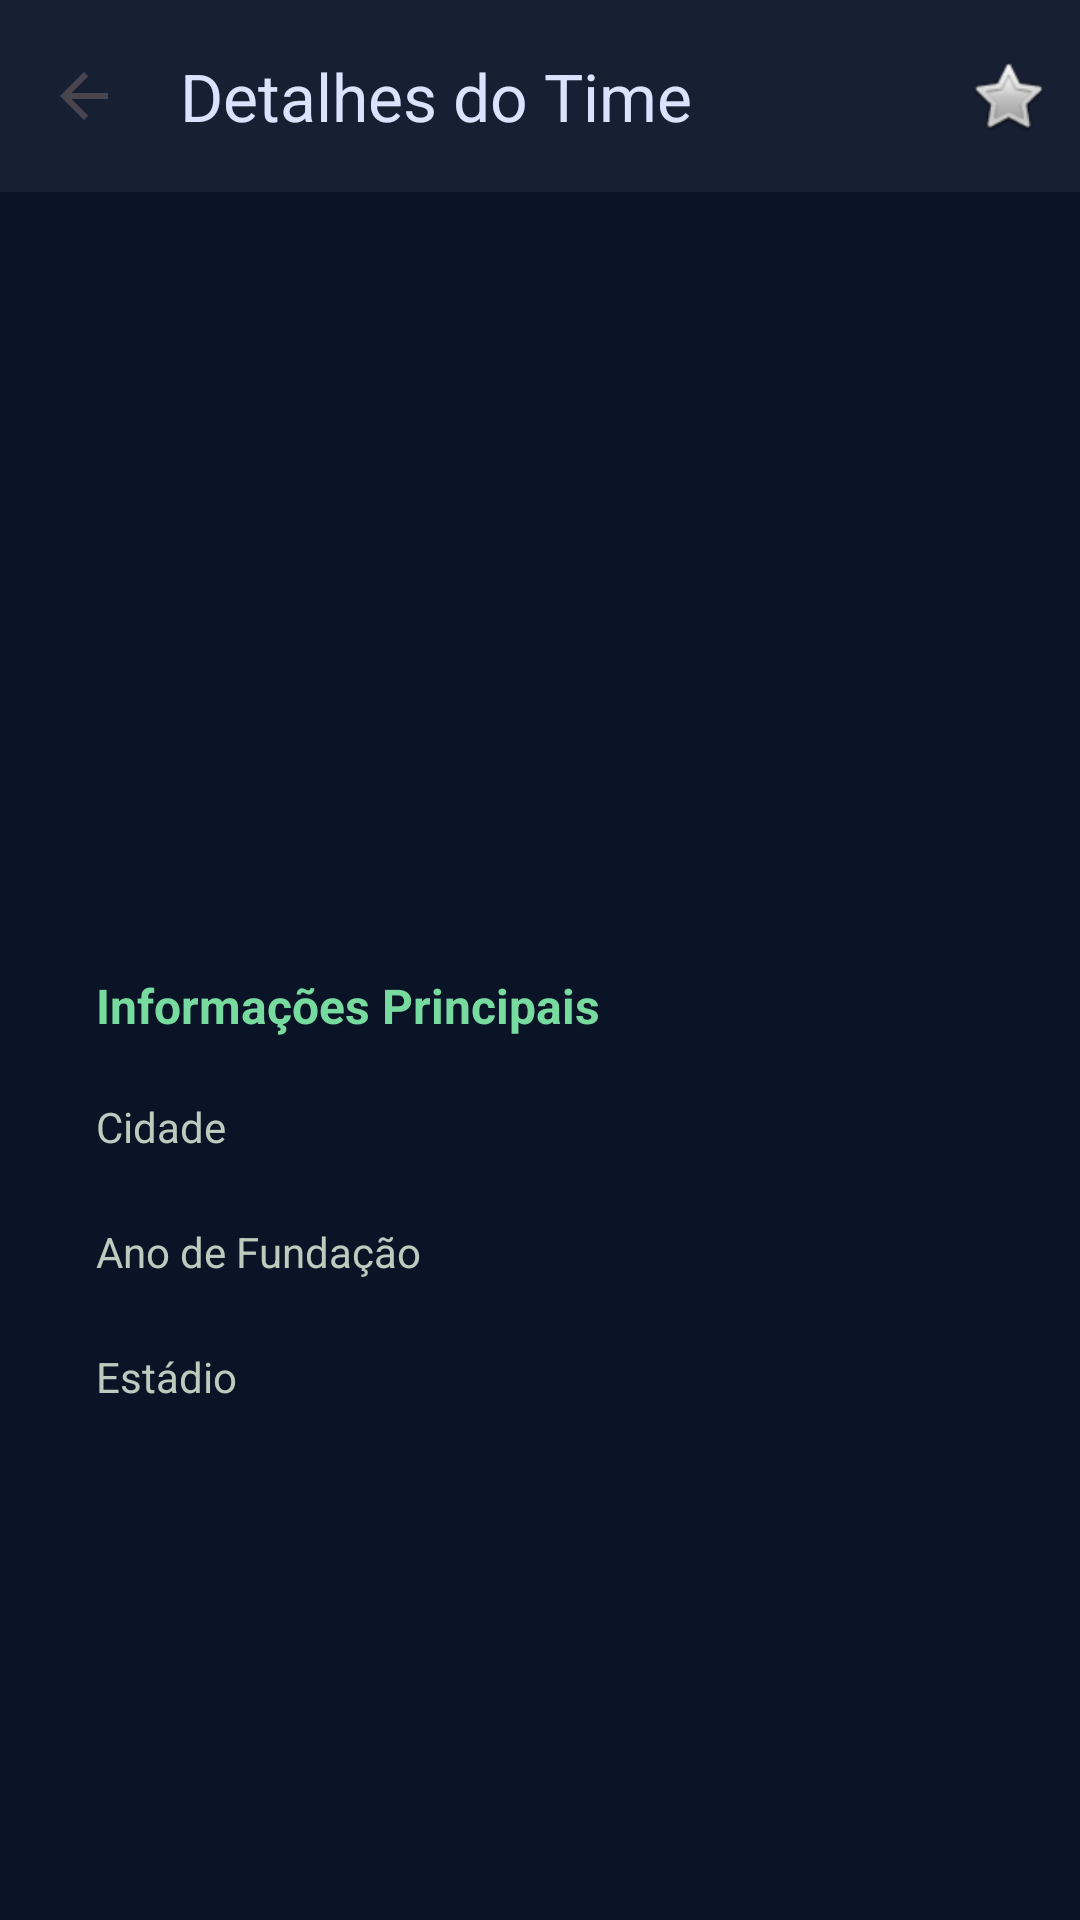

Named icons in this screenshot (1080 x 1920) and their bounding boxes, (x1, y1, x2, y2):
Favoritar: (975, 64, 1042, 128)
